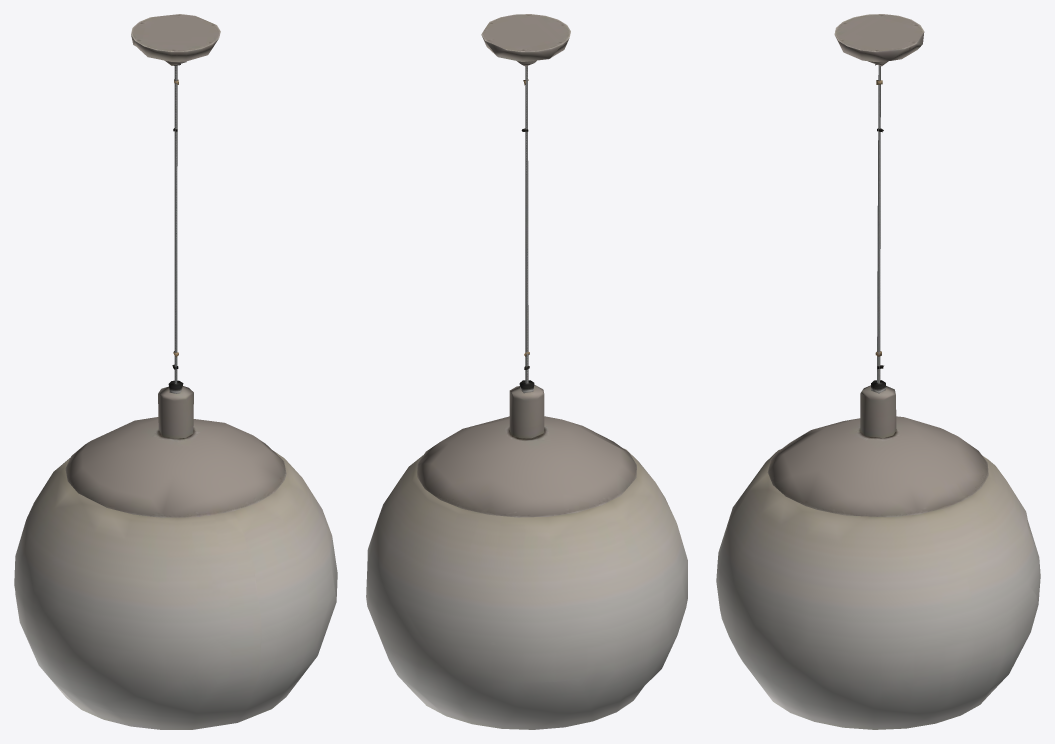
File: ceiling_lamp.glb
3 views of the same model, side by side, from view 1: azimuth 30°, elevation 25°; view 2: azimuth 150°, elevation 25°; view 3: azimuth 270°, elevation 25° (orthographic).
Parts seen in each view (by area): view 1: modern_ceiling_lamp_01; view 2: modern_ceiling_lamp_01; view 3: modern_ceiling_lamp_01.
Part boxes in pixels (x1=…): modern_ceiling_lamp_01: x1=14, y1=14, x2=337, y2=729; modern_ceiling_lamp_01: x1=366, y1=14, x2=687, y2=729; modern_ceiling_lamp_01: x1=716, y1=14, x2=1040, y2=729.
Bounding box in the file's own units: 0.4316 × 0.9512 × 0.4316.
2 materials, 2 textured.
